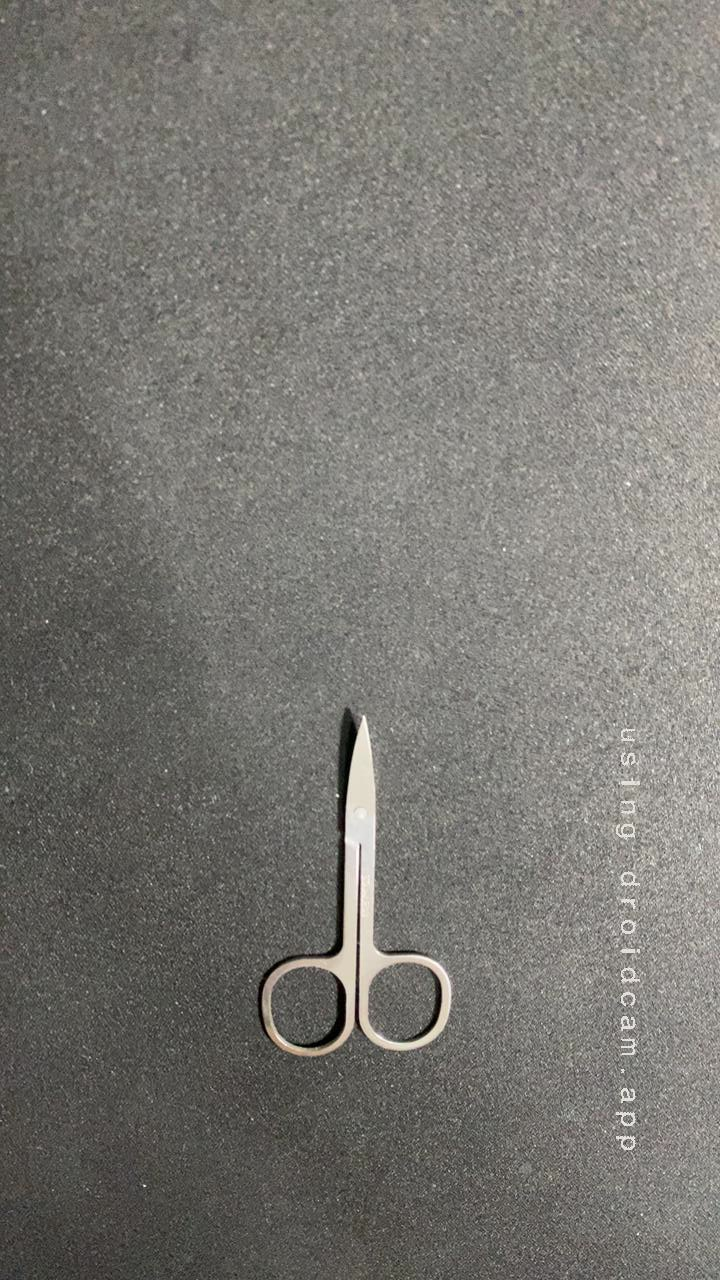scissor: (224, 697, 474, 1066)
